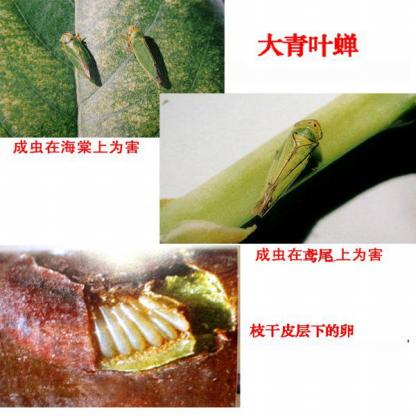Green-Leafhopper: (250, 118, 329, 224), (56, 30, 106, 86), (121, 25, 164, 86)
